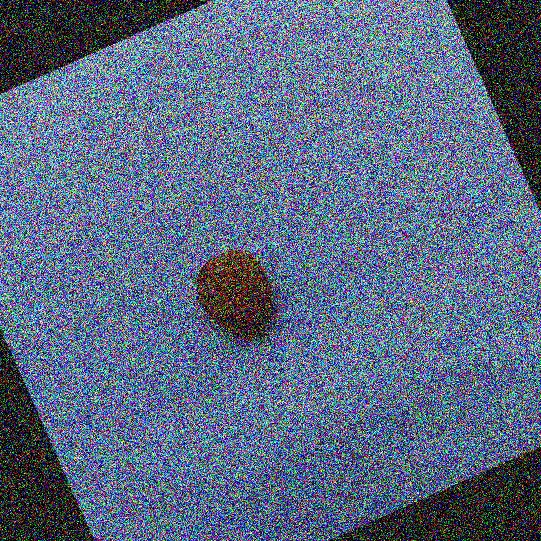grade1: (178, 232, 298, 361)
